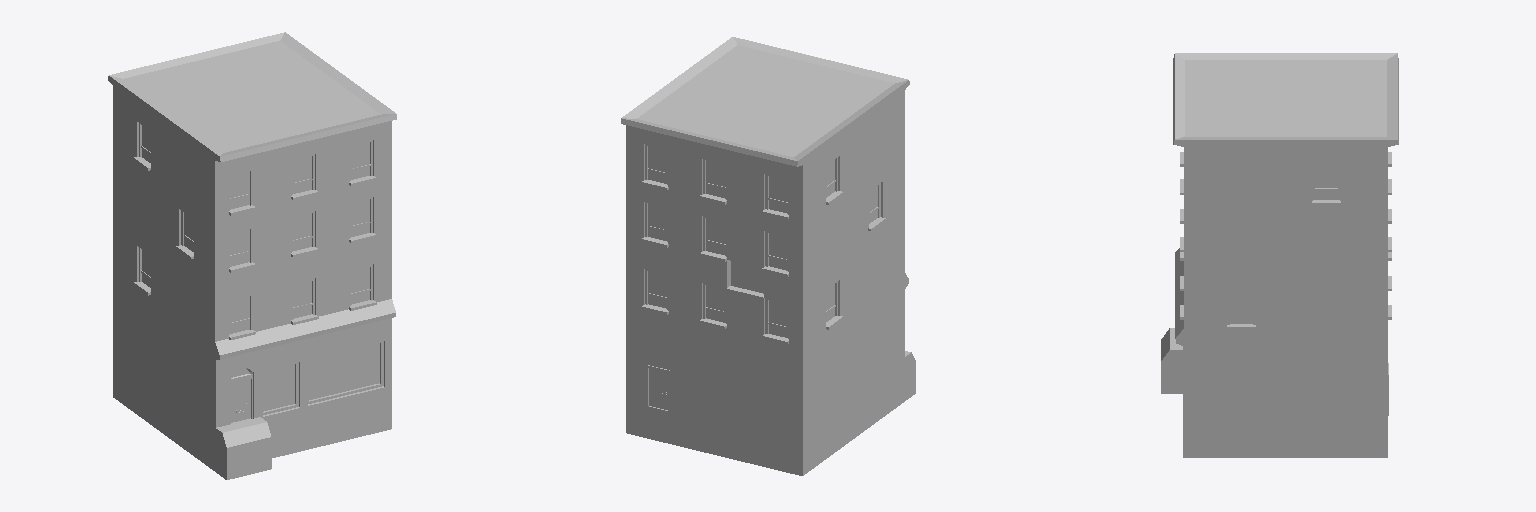
The model's file is EverythingLibrary_Buildings_GeorgianHome1.obj.
3 views of the same model, side by side, from view 1: azimuth 30°, elevation 25°; view 2: azimuth 150°, elevation 25°; view 3: azimuth 270°, elevation 25° (orthographic).
Parts seen in each view (by area): view 1: base.103_Mesh.296, windowRefl.073_Mesh.294; view 2: base.103_Mesh.296, windowRefl.073_Mesh.294; view 3: base.103_Mesh.296, windowRefl.073_Mesh.294.
Boxes of the visible parts, x1,y1,x2,y2 form: base.103_Mesh.296: [108, 32, 396, 479]; windowRefl.073_Mesh.294: [142, 125, 379, 411]; base.103_Mesh.296: [621, 37, 915, 475]; windowRefl.073_Mesh.294: [648, 146, 877, 337]; base.103_Mesh.296: [1161, 53, 1398, 457]; windowRefl.073_Mesh.294: [1230, 166, 1337, 323].
Size of the model in its own units: 11.21 by 18.64 by 12.58.